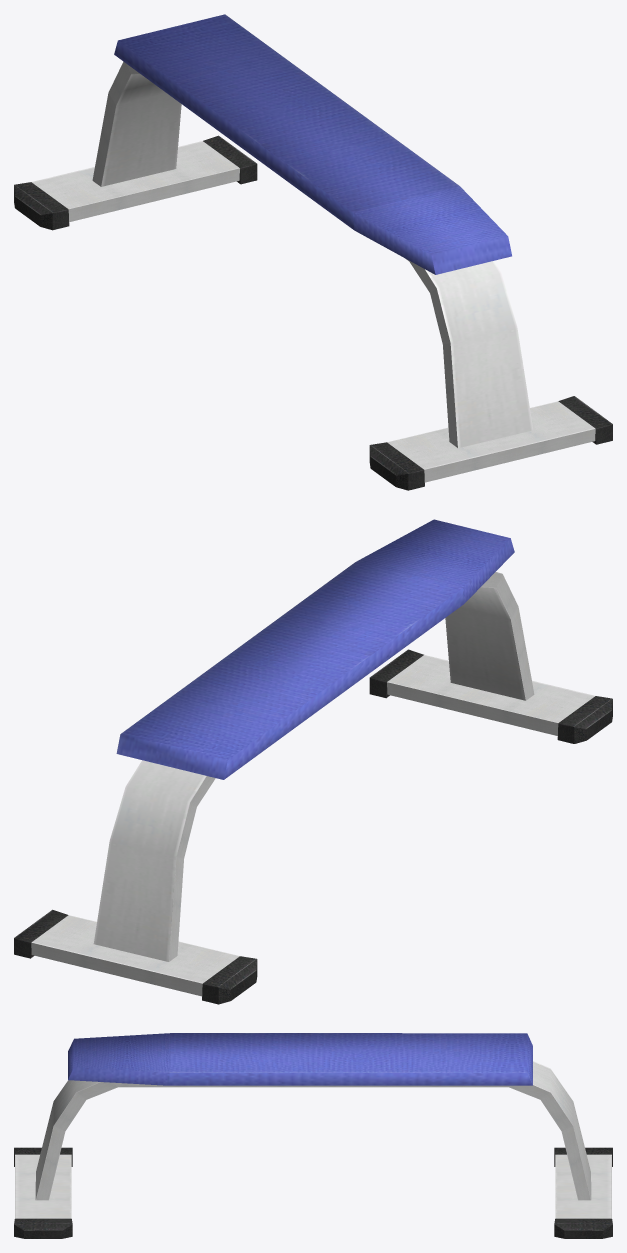
The model's file is M_Home_Garden_Fitnes01.fbx.
3 views of the same model, one above another, from view 1: azimuth 30°, elevation 25°; view 2: azimuth 150°, elevation 25°; view 3: azimuth 270°, elevation 25° (orthographic). The views are drawn at different scales.
Visible parts, largest first — view 1: M_Home_Garden_Fitnes01; view 2: M_Home_Garden_Fitnes01; view 3: M_Home_Garden_Fitnes01.
Boxes of the visible parts, x1=… form: M_Home_Garden_Fitnes01: x1=14, y1=14, x2=612, y2=490; M_Home_Garden_Fitnes01: x1=14, y1=519, x2=612, y2=1004; M_Home_Garden_Fitnes01: x1=14, y1=1033, x2=612, y2=1238.
Bounding box in the file's own units: 67.5 × 57.11 × 213.
